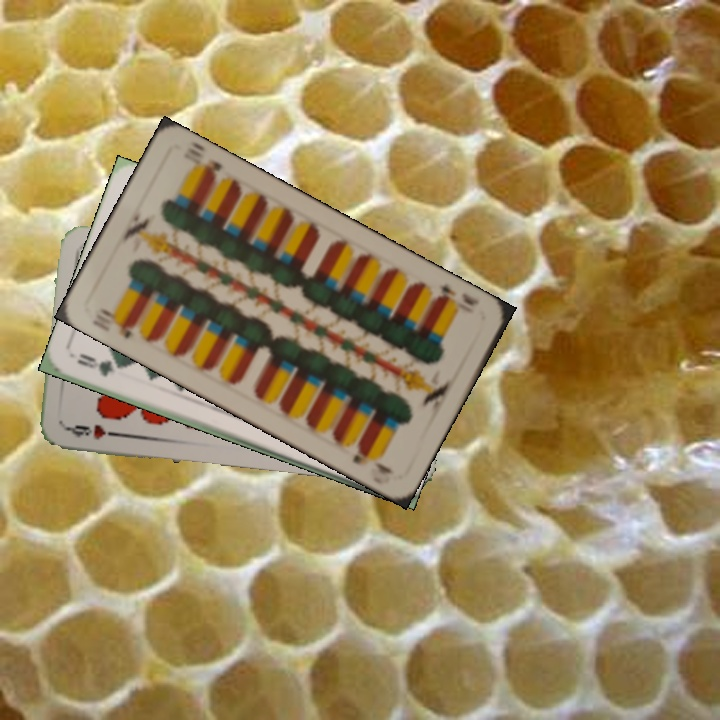E10: (87, 304, 138, 342), (428, 280, 482, 309)
G9: (73, 349, 125, 379)
H9: (62, 420, 121, 443)
